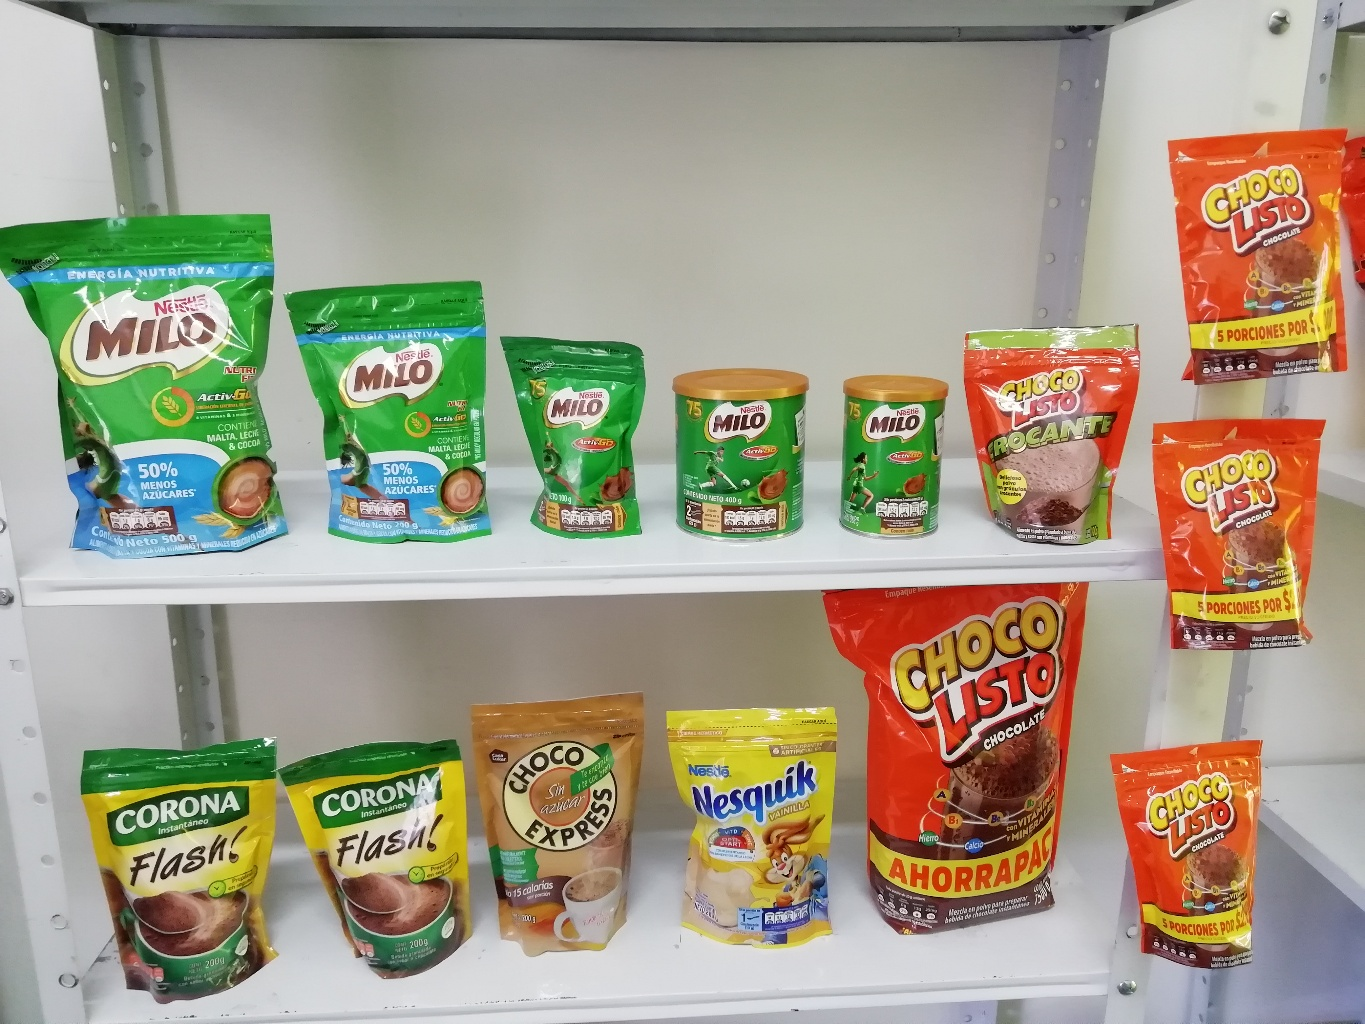COL0170102DYP10000: (965, 316, 1148, 546)
COL0170103DYP1,500: (827, 588, 1103, 953)
COL0170203DYP10000: (501, 324, 666, 546)
COL0170203LAT20000: (834, 362, 968, 534)
COL0170203LAT40000: (671, 351, 829, 536)
COL0170205DYP20000: (276, 265, 511, 546)
COL0170205DYP50000: (2, 200, 303, 566)
COL0170306DYP20000: (649, 677, 854, 963)
